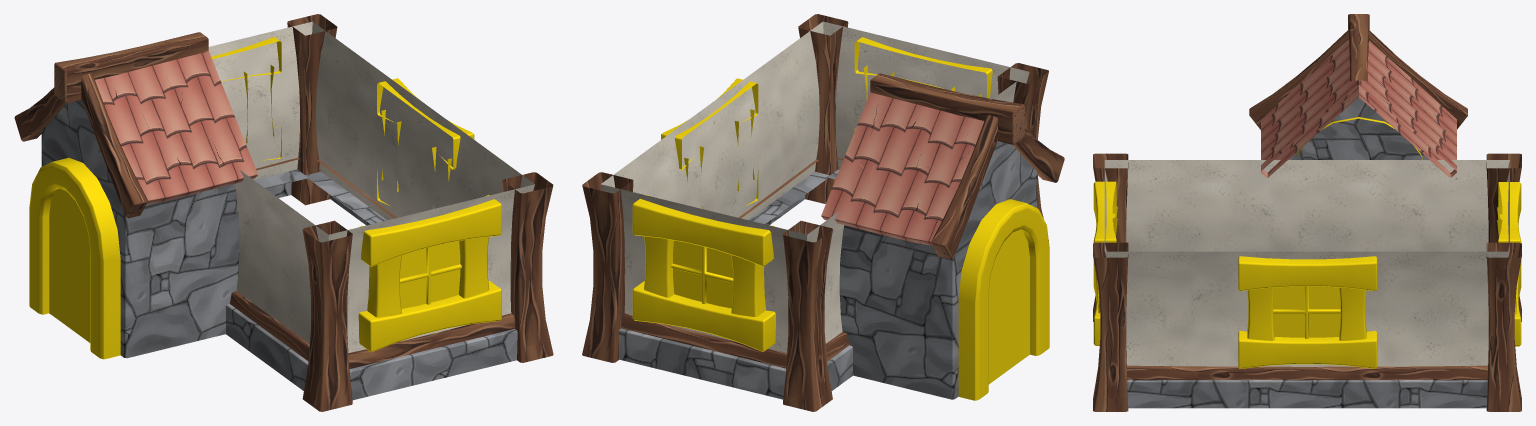
File: house_ground_floor2.FBX
The picture shows the model from 3 angles, left to right: view 1: azimuth 30°, elevation 25°; view 2: azimuth 150°, elevation 25°; view 3: azimuth 270°, elevation 25°; orthographic projection. The views are drawn at different scales.
Parts seen in each view (by area): view 1: ground_floor002; view 2: ground_floor002; view 3: ground_floor002.
Boxes of the visible parts, x1=… form: ground_floor002: x1=14, y1=14, x2=553, y2=411; ground_floor002: x1=582, y1=14, x2=1064, y2=411; ground_floor002: x1=1093, y1=14, x2=1521, y2=411.
Bounding box in the file's own units: 432 × 316 × 503.
